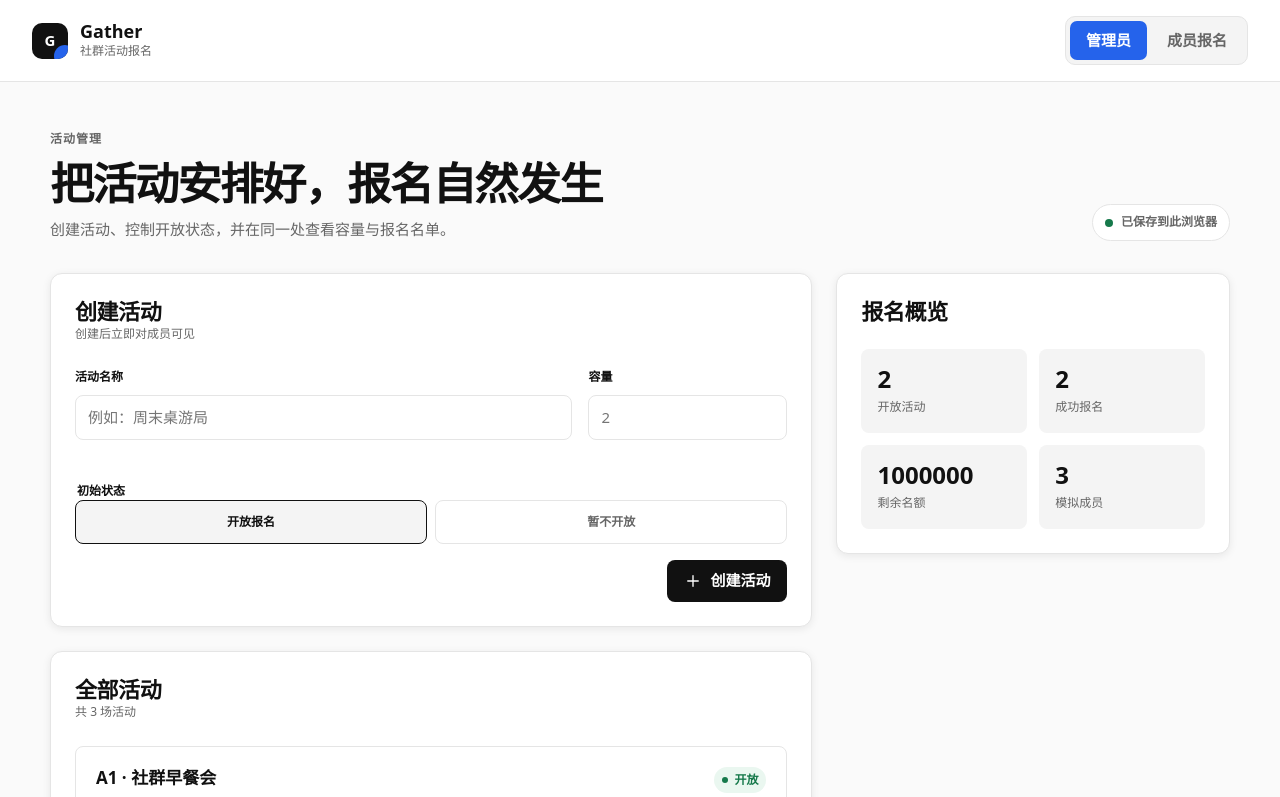
Test case: 成员关键交互 › 大容量活动保留准确人数且不会按容量展开大量装饰节点
The width and height of the screenshot is (1280, 797).
Click the button "成员报名".
click(1197, 41)  # box [1151,21,1243,60]
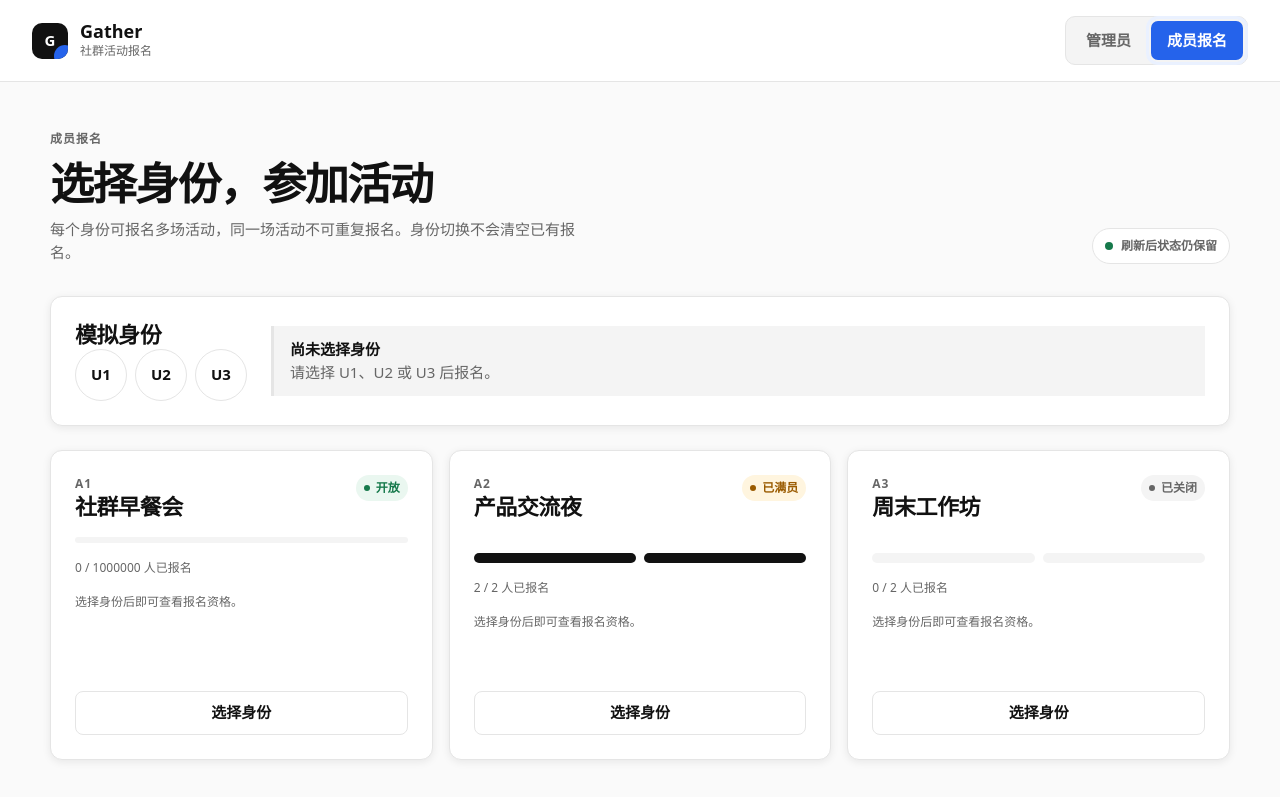
Check: the text "0 / 1000000 人已报名" is shown, box [75,559,192,576]
